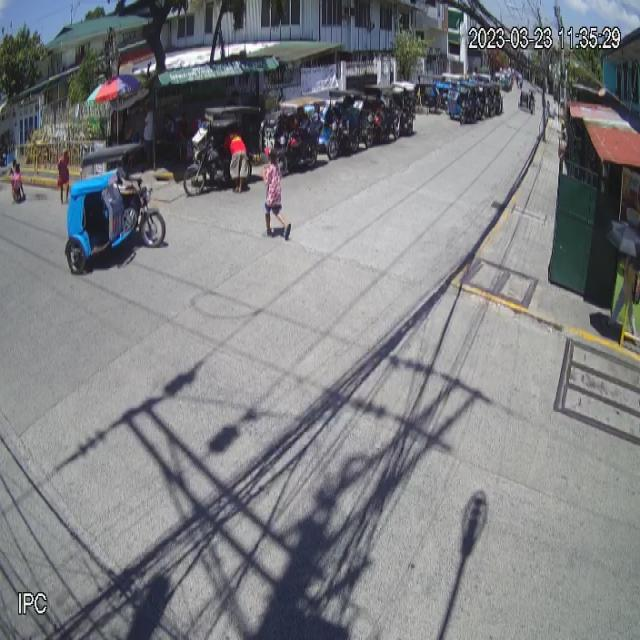Tricycle: (65, 142, 166, 276)
